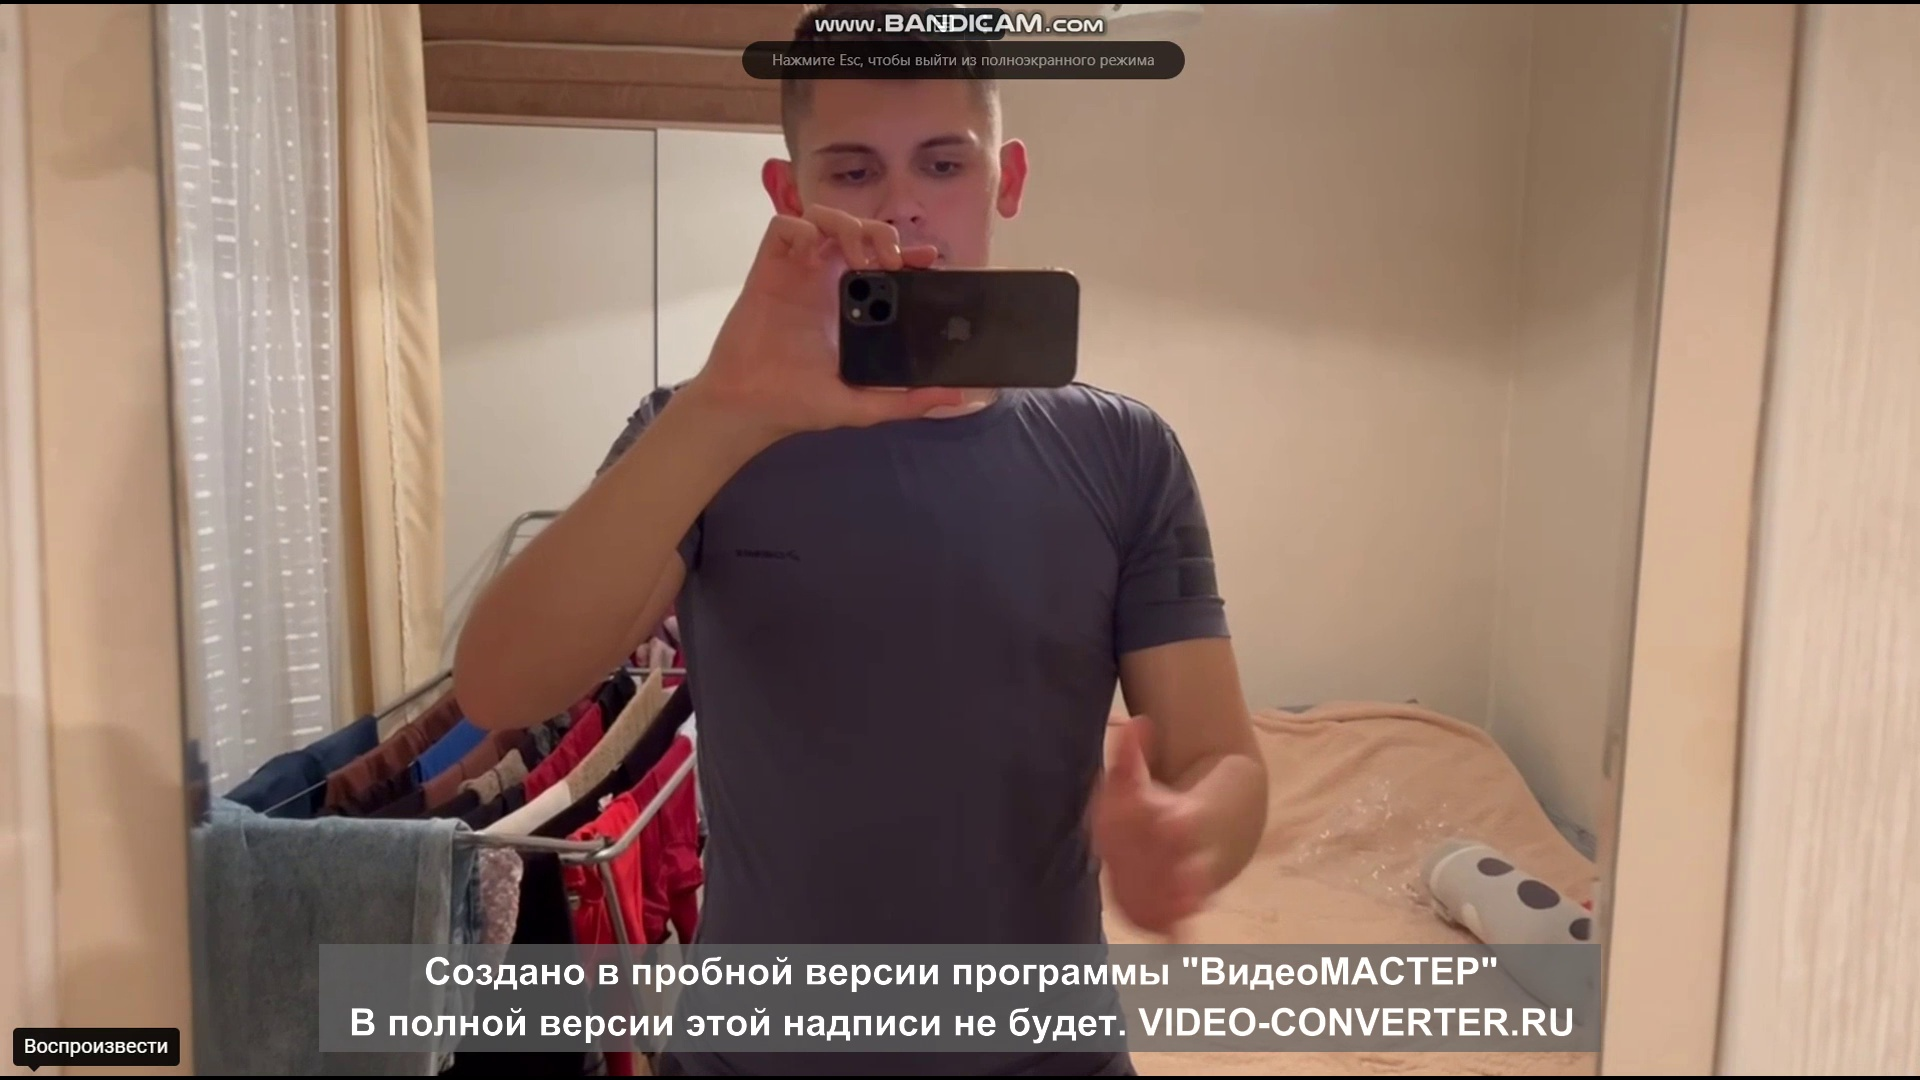Ладонь: (1084, 717, 1216, 939)
